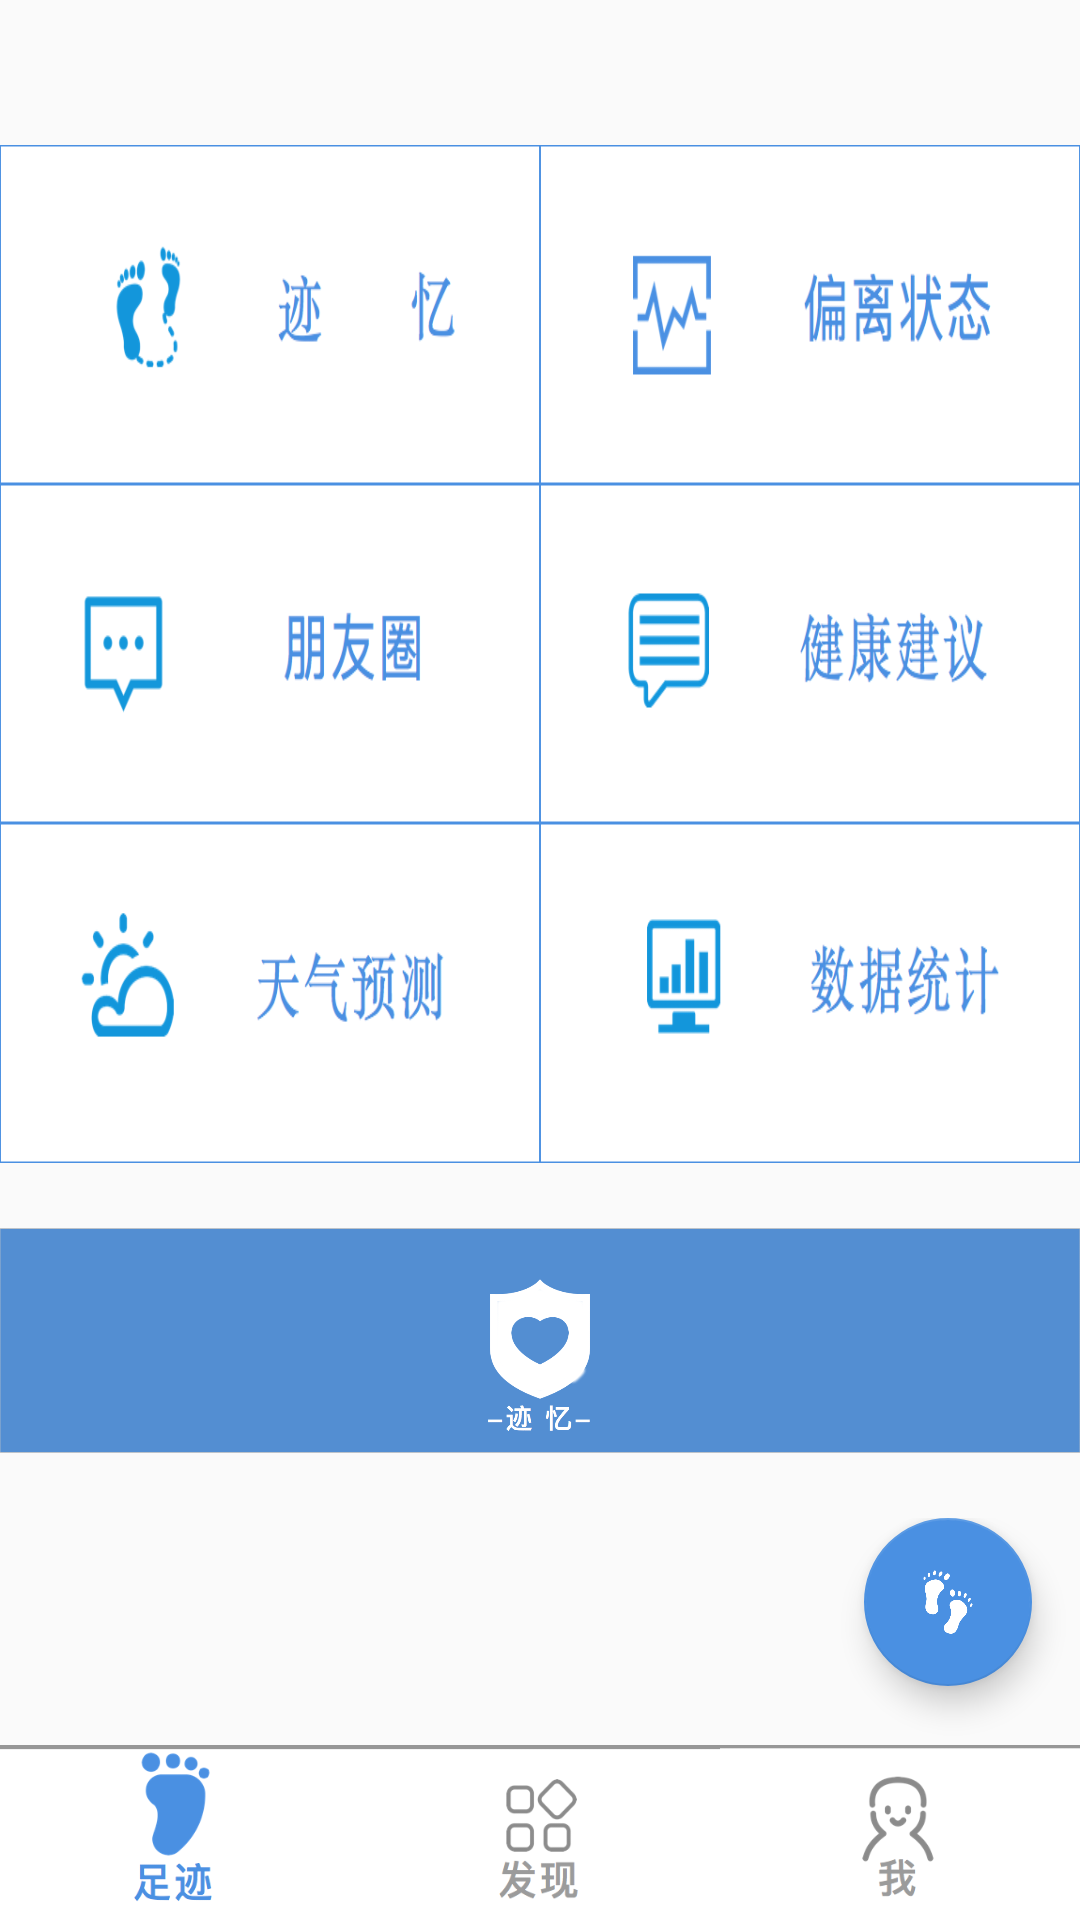

Icon click points for this 1080*1920 phone screenshot, format (x,y):
footfoot: (948,1602)
